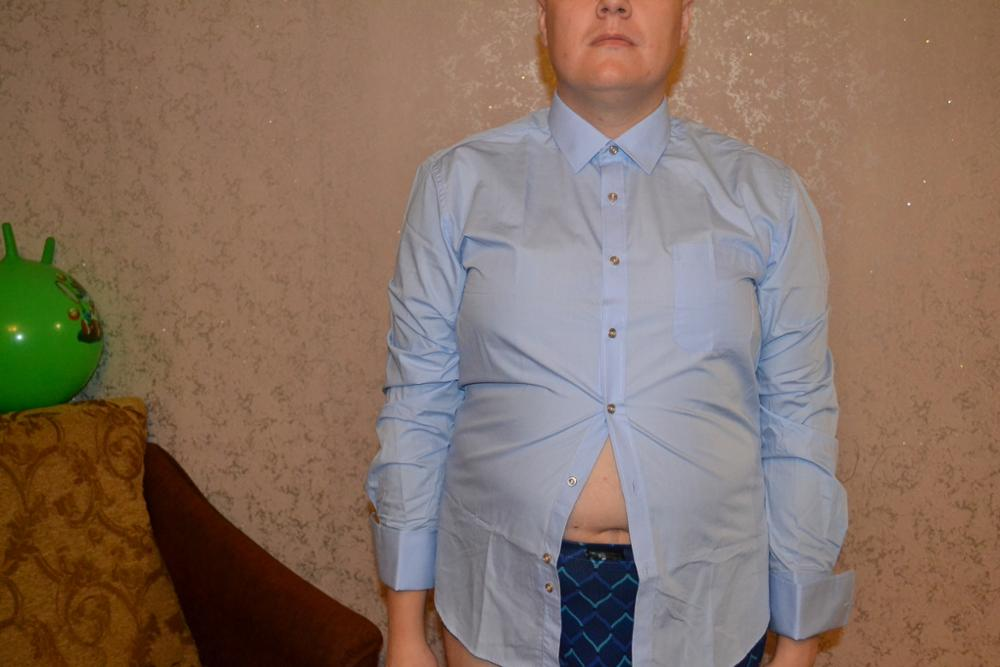shirts: (378, 98, 830, 667)
